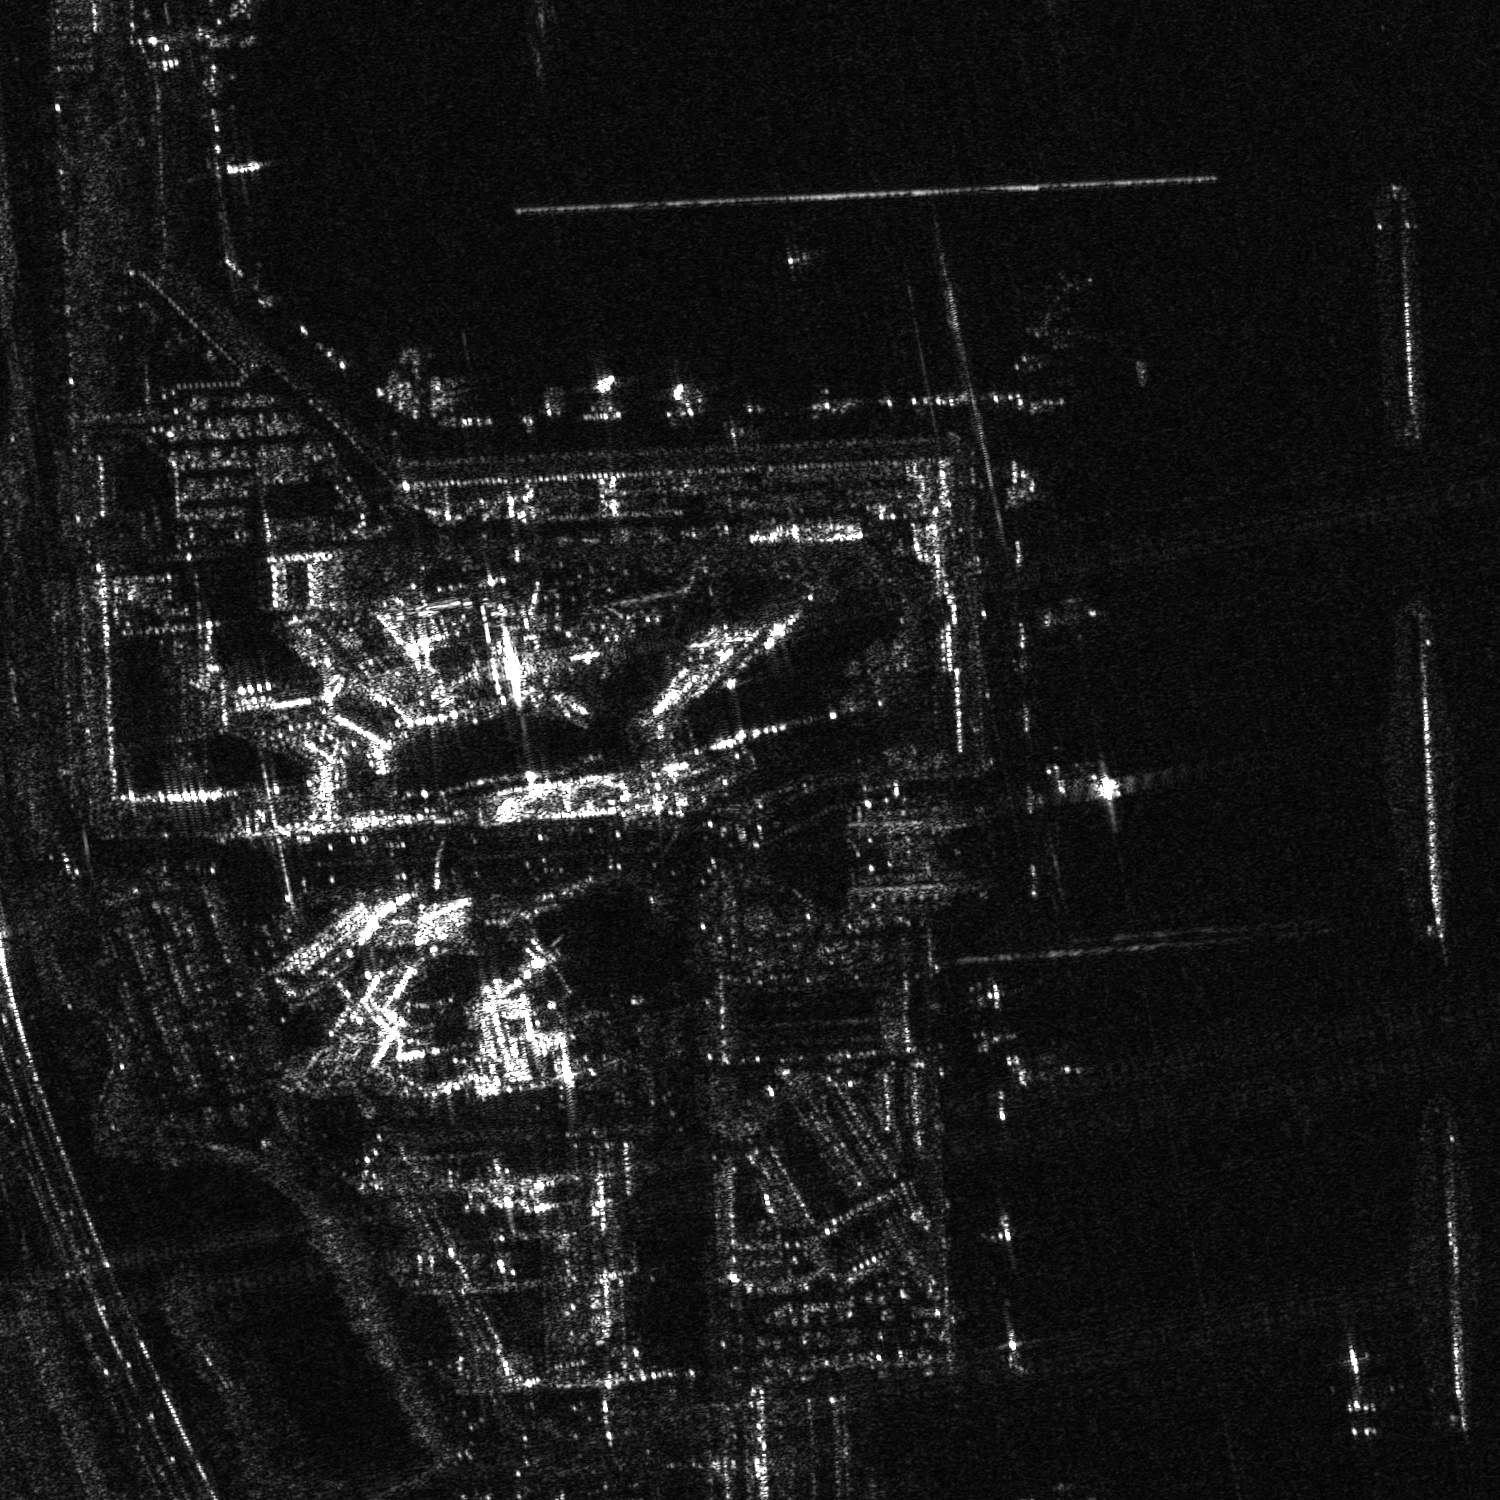A220: (1029, 578, 1107, 641), (986, 1319, 1041, 1374), (985, 1213, 1030, 1268), (962, 979, 1021, 1014), (995, 1049, 1032, 1091)
other: (1315, 1341, 1398, 1437), (968, 1027, 1025, 1054)
